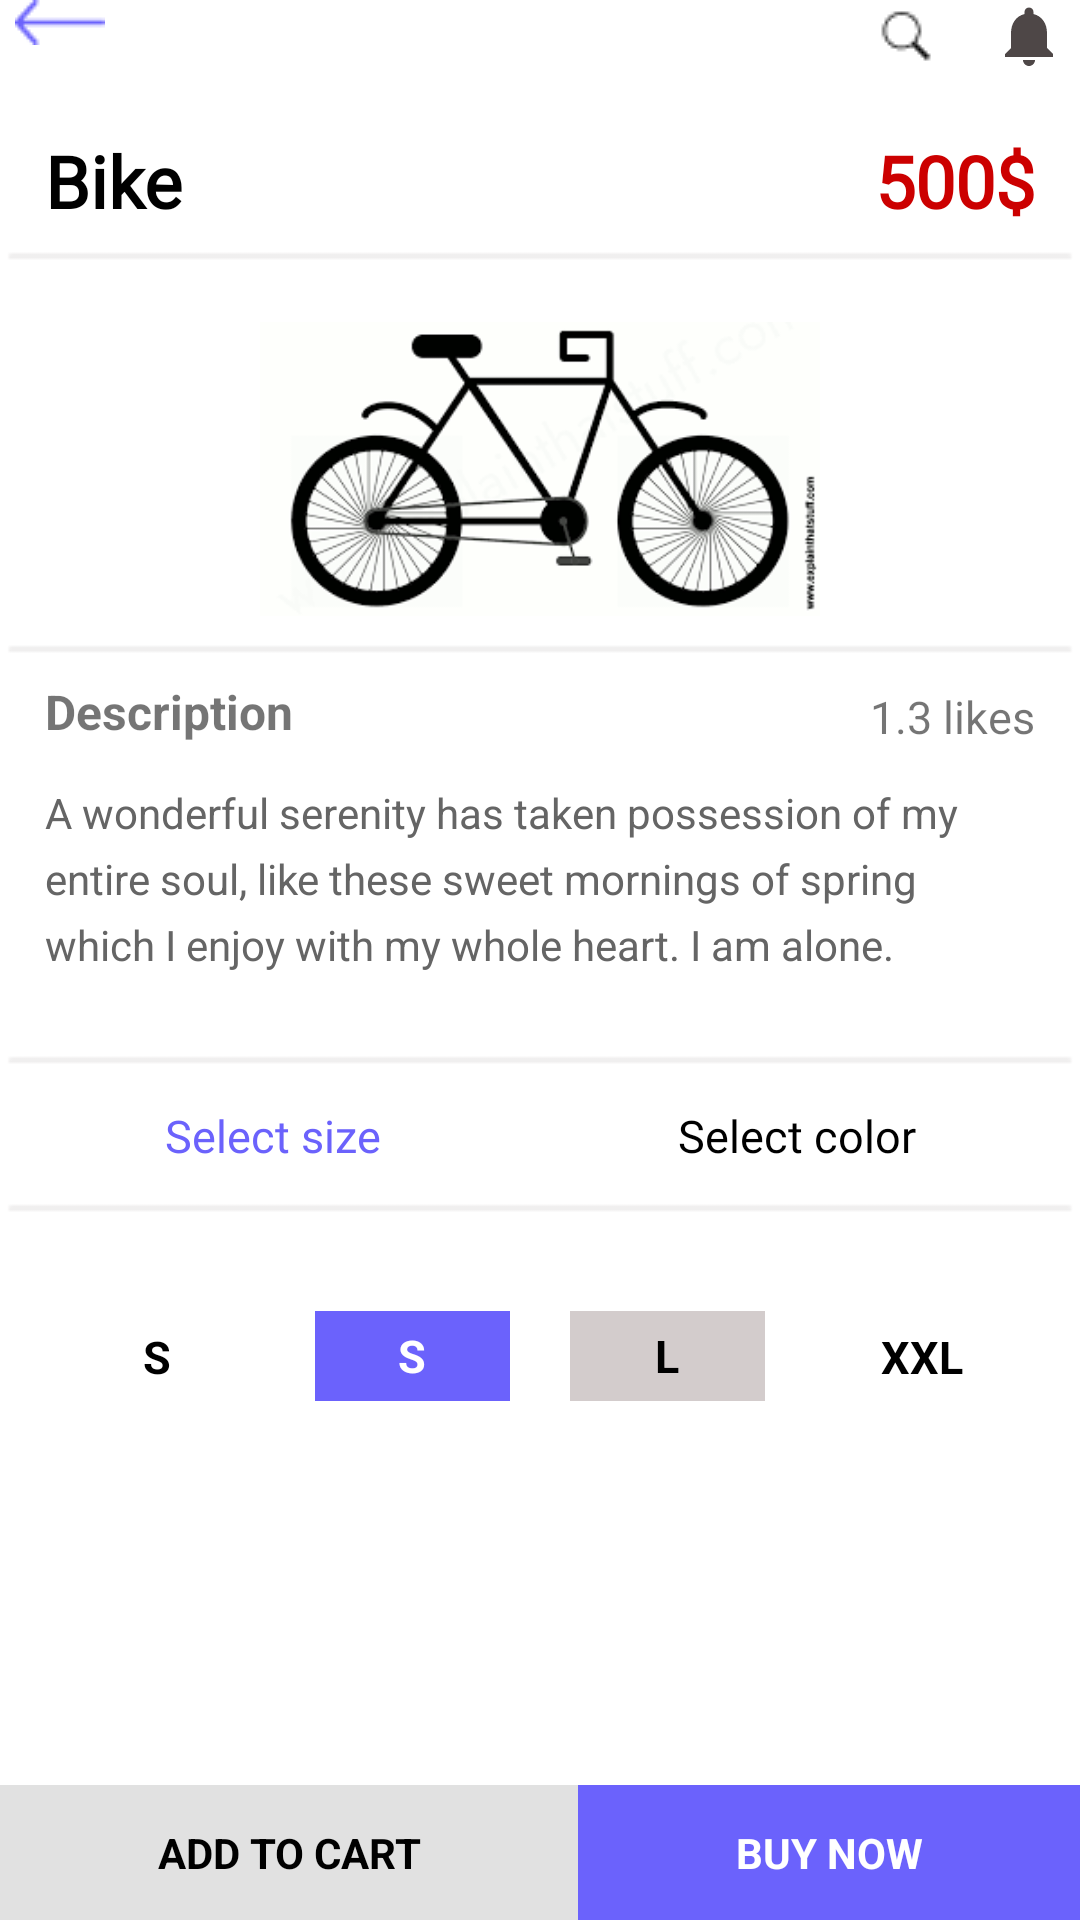

Screen size 1080*1920. Icon name, then its box in pixels as box(x1, y1, x2, y2):
back arrow: box(15, 0, 105, 45)
notifications: box(1005, 7, 1053, 66)
